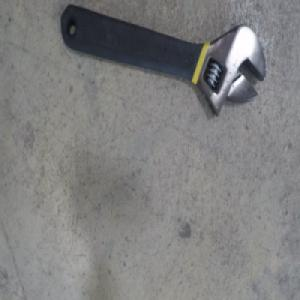AdjustableWrench: (58, 5, 264, 120)
